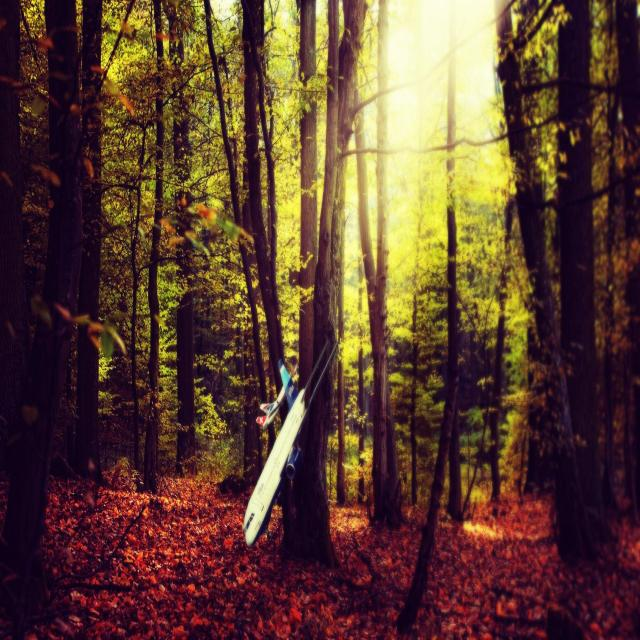airplane: (242, 331, 339, 547)
